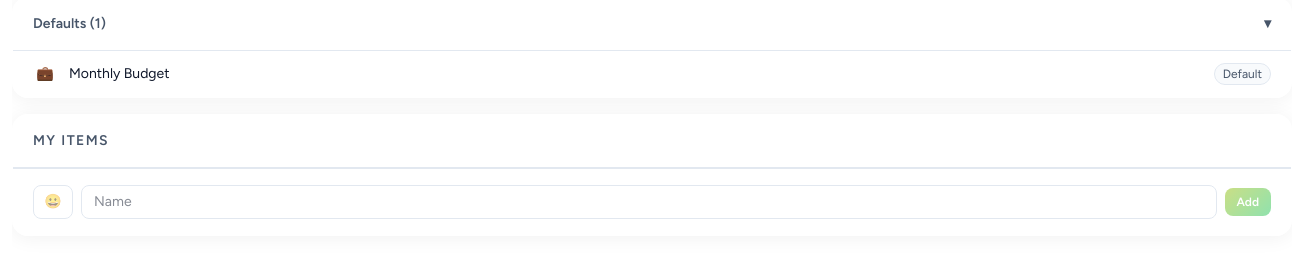
it: BudgetDataTab — My Items (add) › rejects add when name already exists in defaults
Type "Monthly Budget" into the field labelled "Name" at (649, 202), box [81,185,1216,219]
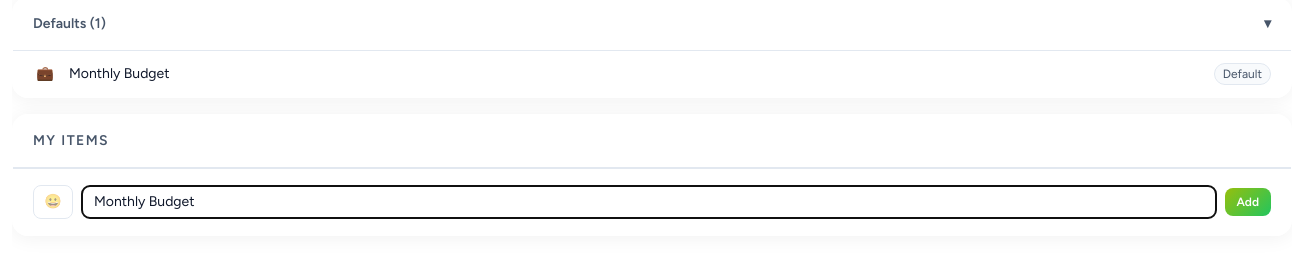
Click the button "Add" at (1248, 202), box [1224,188,1271,216]
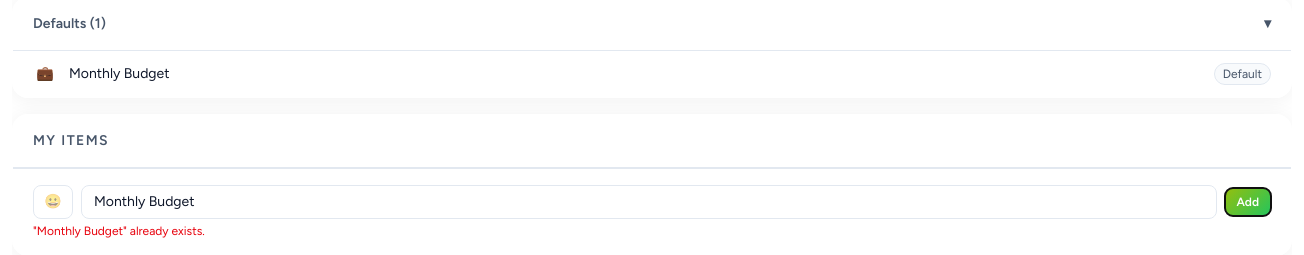
Expected: the text "\"Monthly Budget\" already exists." is shown, [33,224,205,238]
